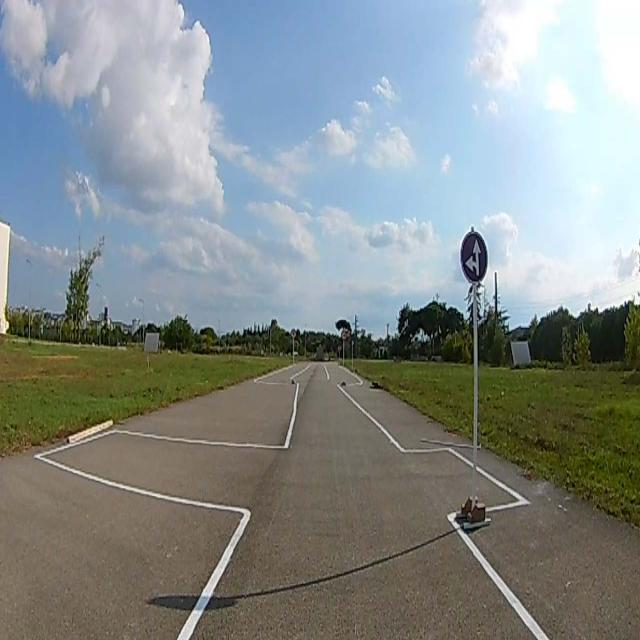ilerisol: (462, 234, 488, 282)
